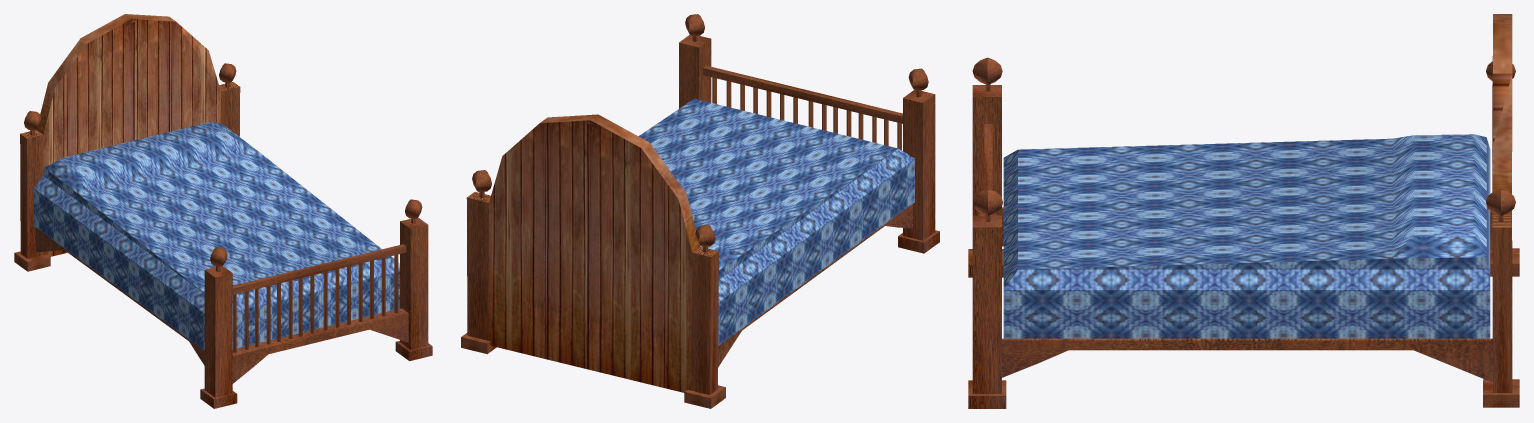
The model's file is bed3.obj.
3 renders of one model, left to right at view 1: azimuth 30°, elevation 25°; view 2: azimuth 150°, elevation 25°; view 3: azimuth 270°, elevation 25°, orthographic. The views are drawn at different scales.
Parts seen in each view (by area): view 1: br_spread1, bed_1; view 2: bed_1, br_spread1; view 3: br_spread1, bed_1.
Boxes of the visible parts, x1,y1,x2,y2 form: br_spread1: [34, 121, 399, 350]; bed_1: [14, 14, 432, 408]; bed_1: [461, 14, 939, 408]; br_spread1: [638, 98, 914, 345]; br_spread1: [1003, 134, 1490, 338]; bed_1: [968, 14, 1519, 408].
Bounding box in the file's own units: 72.31 × 71 × 115.
2 materials, 2 textured.
